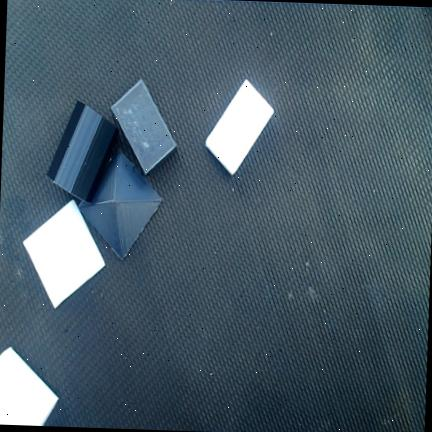Paralelepipedo: (204, 78, 274, 177), (109, 78, 177, 177)
Piramide: (77, 147, 163, 262), (22, 198, 106, 309)
Prisma_hexagonal: (47, 101, 120, 205), (0, 346, 59, 426)
